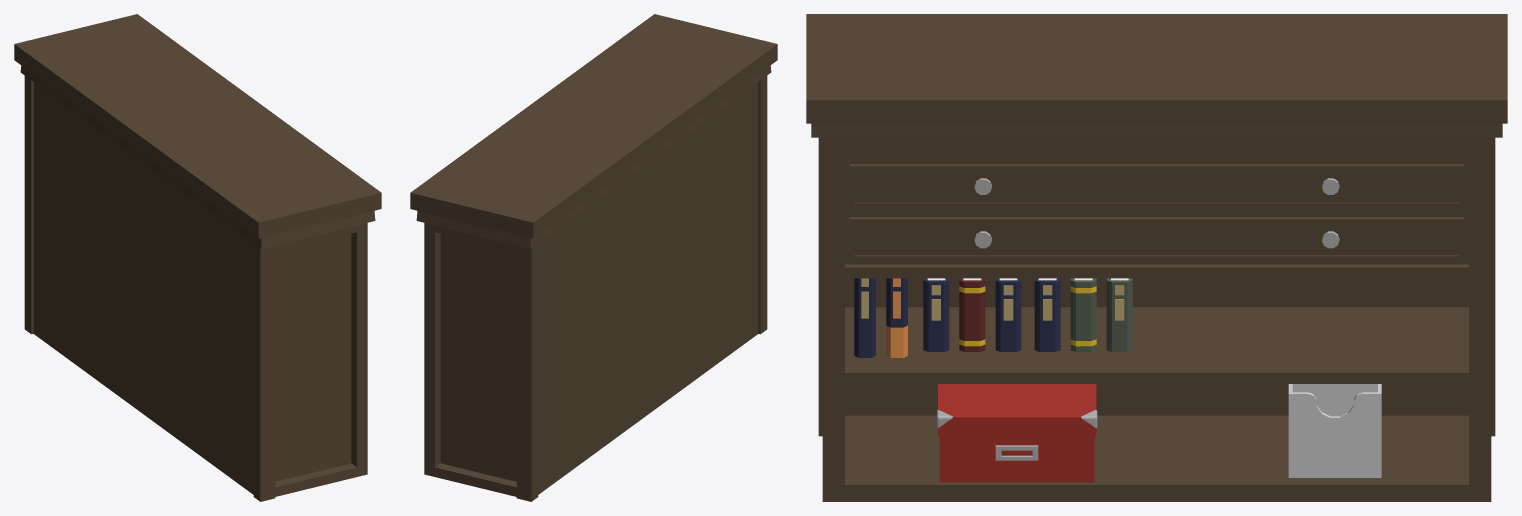
File: SM_Cupboard_02.glb
3 renders of one model, left to right at view 1: azimuth 30°, elevation 25°; view 2: azimuth 150°, elevation 25°; view 3: azimuth 270°, elevation 25°, orthographic. The views are drawn at different scales.
Parts seen in each view (by area): view 1: SM_Cupboard_02; view 2: SM_Cupboard_02; view 3: SM_Cupboard_02.
Part boxes in pixels (x1=…): SM_Cupboard_02: x1=14, y1=14, x2=381, y2=501; SM_Cupboard_02: x1=410, y1=14, x2=777, y2=501; SM_Cupboard_02: x1=806, y1=14, x2=1507, y2=501.
Size of the model in its own units: 0.5367 by 1.18 by 1.84.
Materials: 1 (1 with a texture image).
